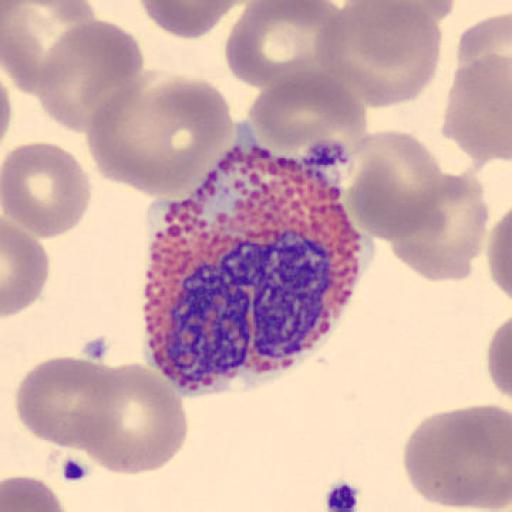RBC: (85, 77, 232, 197), (312, 0, 443, 110), (77, 361, 190, 475), (35, 17, 146, 133), (225, 1, 348, 95), (401, 407, 512, 510), (388, 171, 490, 283), (344, 129, 444, 242), (247, 68, 369, 159), (84, 86, 178, 198), (14, 354, 120, 451), (0, 0, 97, 95), (0, 140, 92, 240), (442, 52, 512, 165), (2, 218, 52, 318), (453, 11, 512, 94), (137, 0, 248, 39), (344, 0, 454, 34), (486, 204, 512, 309), (361, 0, 457, 27), (1, 474, 67, 512), (486, 311, 512, 401), (384, 0, 458, 24), (0, 67, 13, 152)
WBC: (140, 125, 372, 397), (140, 215, 362, 397)
